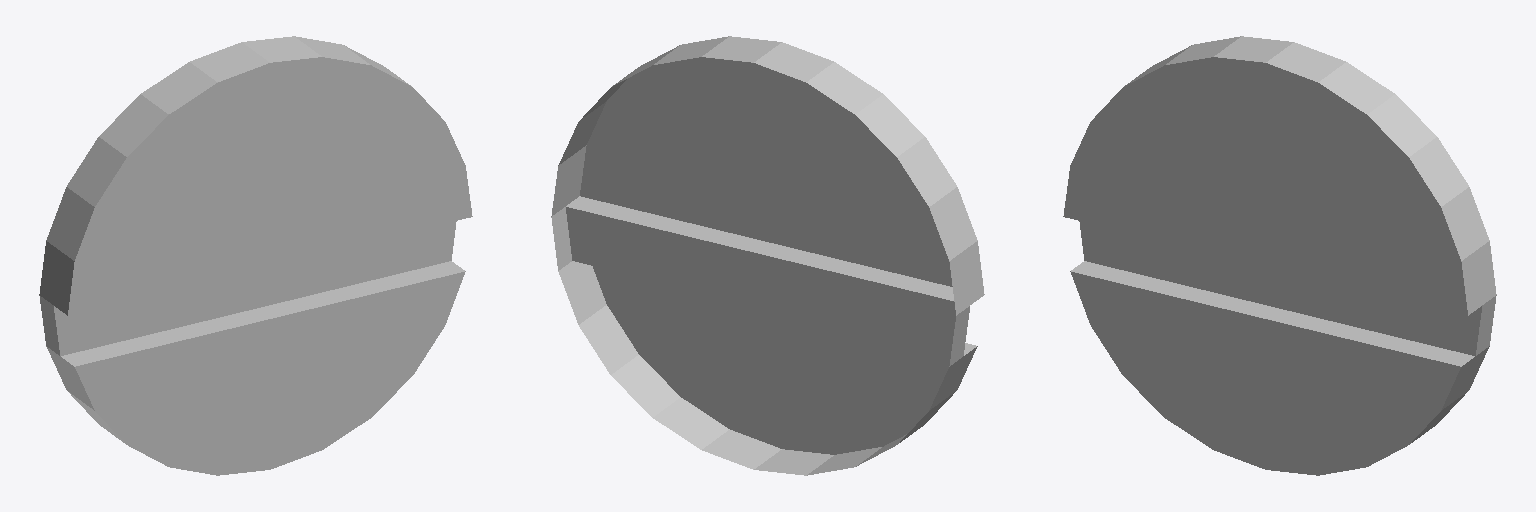
Rendered from original-2.obj.
The picture shows the model from 3 angles: view 1: azimuth 30°, elevation 25°; view 2: azimuth 150°, elevation 25°; view 3: azimuth 330°, elevation 25°; orthographic projection.
Parts seen in each view (by area): view 1: Group4/mesh4/mesh4-geometry#mesh4-geometry; view 2: Group4/mesh4/mesh4-geometry#mesh4-geometry; view 3: Group4/mesh4/mesh4-geometry#mesh4-geometry.
Part boxes in pixels (left/top/right/bottom): Group4/mesh4/mesh4-geometry#mesh4-geometry: left=39, top=36, right=472, bottom=475; Group4/mesh4/mesh4-geometry#mesh4-geometry: left=551, top=36, right=984, bottom=475; Group4/mesh4/mesh4-geometry#mesh4-geometry: left=1063, top=36, right=1496, bottom=475.
Bounding box in the file's own units: 0.1055 × 0.1013 × 0.0128.